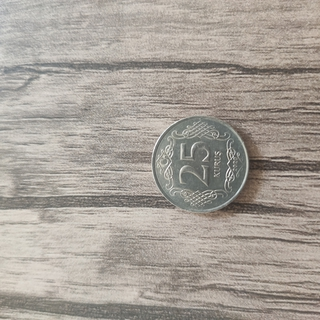25KURUS: (149, 113, 250, 214)
